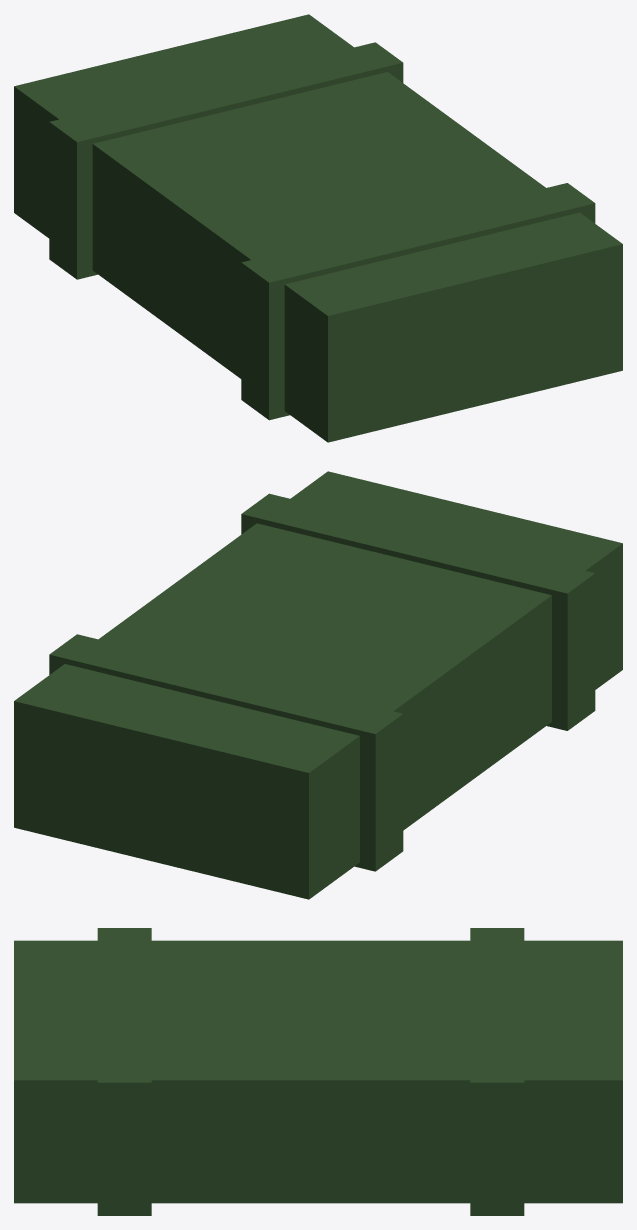
Rendered from ammoBox.fbx.
3 views of the same model, one above another, from view 1: azimuth 30°, elevation 25°; view 2: azimuth 150°, elevation 25°; view 3: azimuth 270°, elevation 25° (orthographic). The views are drawn at different scales.
Visible parts, largest first — view 1: Объект_Куб_1; view 2: Объект_Куб_1; view 3: Объект_Куб_1.
Part boxes in pixels (x1,y1,x2,y2): Объект_Куб_1: [14, 14, 622, 442]; Объект_Куб_1: [14, 471, 622, 899]; Объект_Куб_1: [14, 928, 622, 1215].
Bounding box in the file's own units: 120 × 48.33 × 200.
